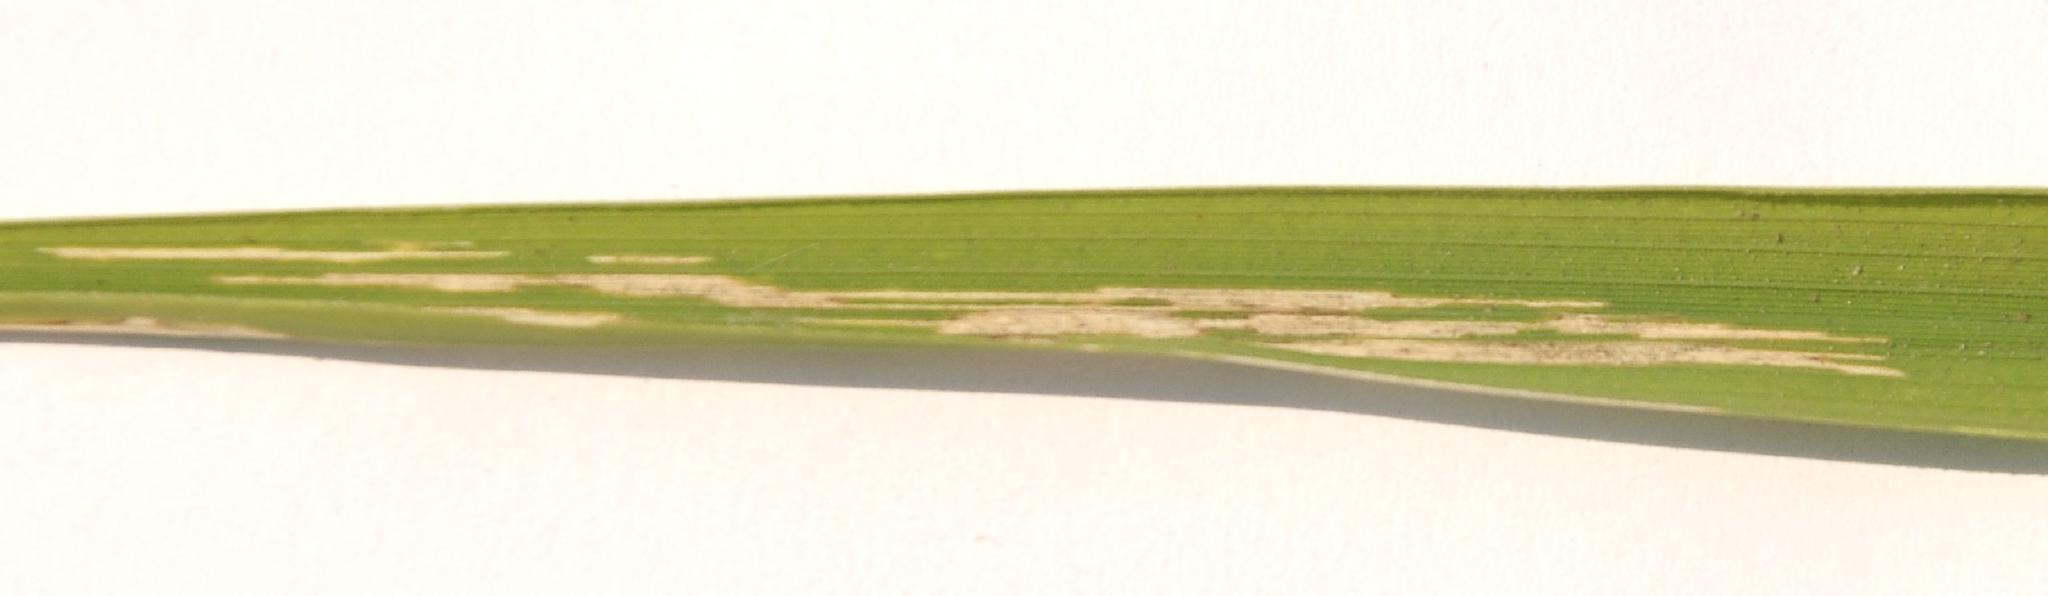2 BacterialBlight: (20, 226, 1942, 426)
